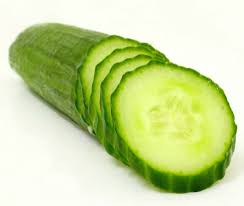cucumber: (7, 15, 240, 192)
